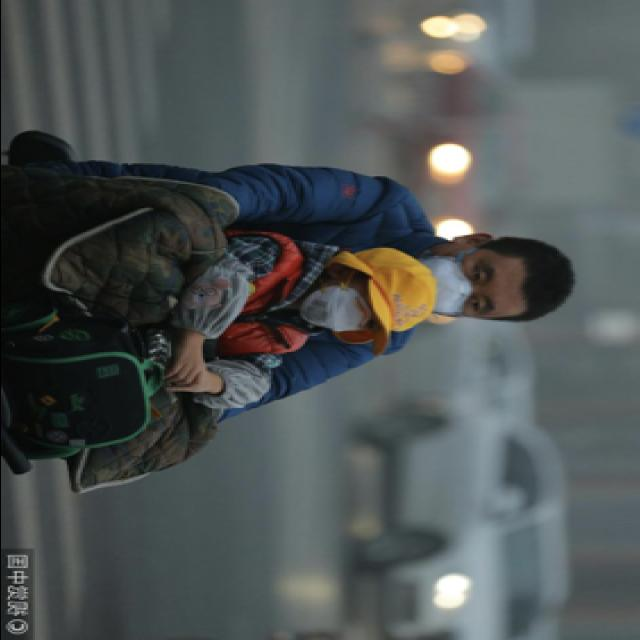mask: (408, 248, 504, 318), (302, 284, 382, 338)
